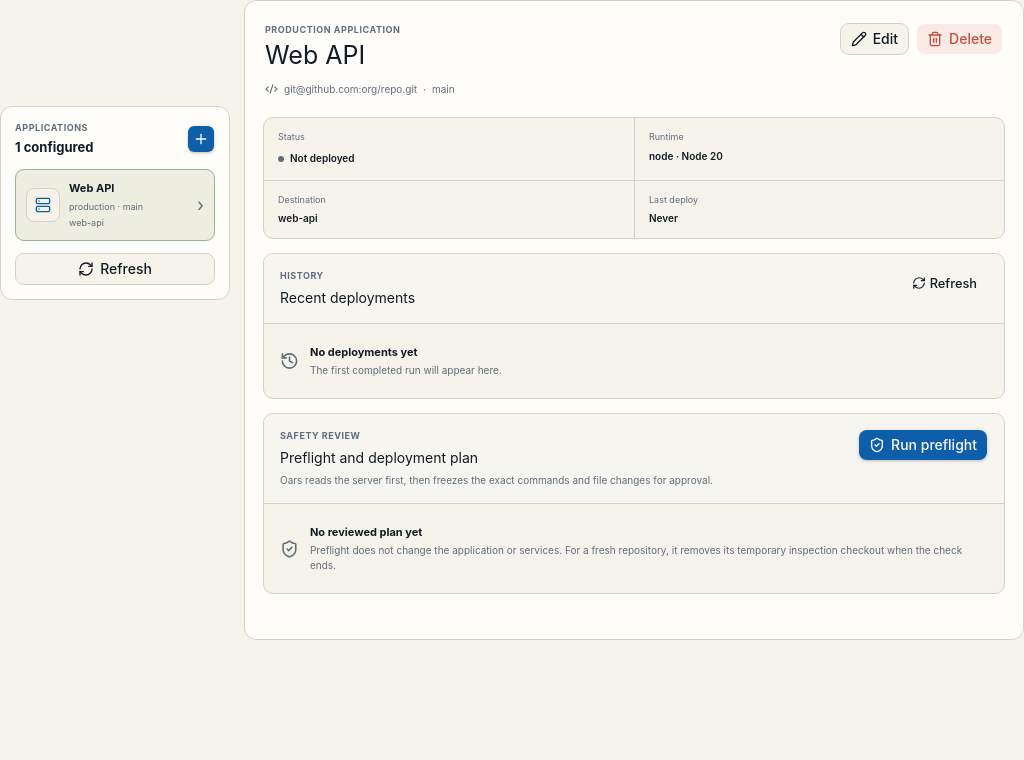
Test case: DeployTab Integration Suite › Scenario 1: Preflight gathering-to-ready polling and server facts inspection
Expected: the text "Web API" is shown, left=69, top=181, right=114, bottom=195
Click the button "Run preflight": coordinates (923, 445) left=858, top=429, right=988, bottom=461
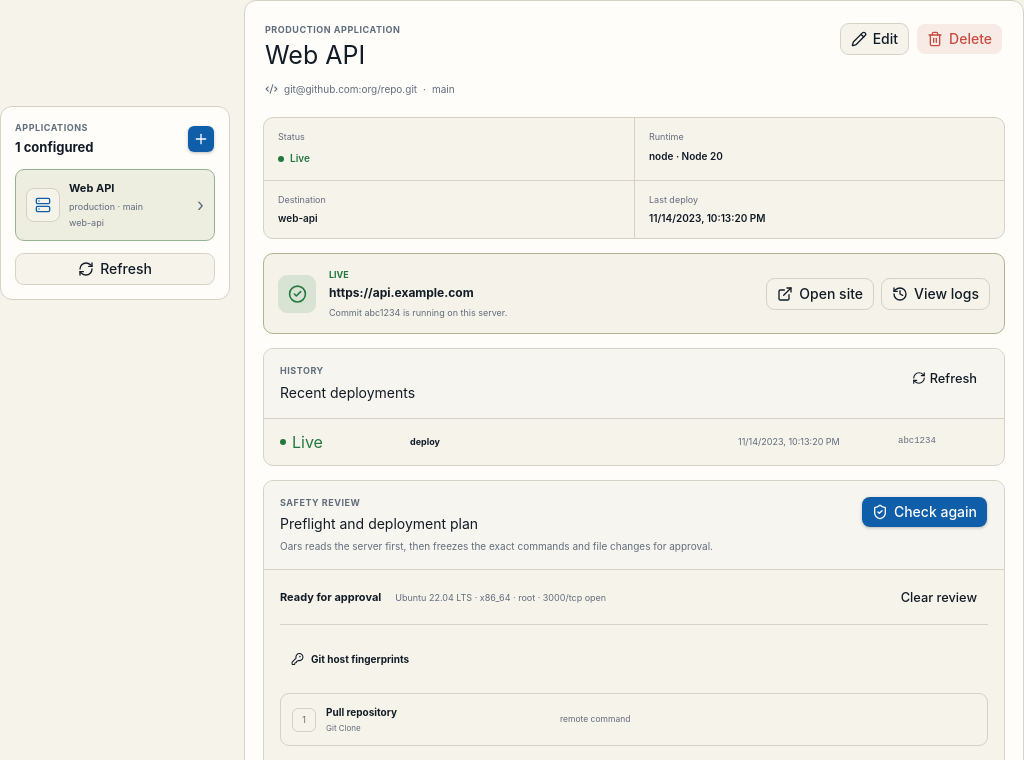
Expected: the text "Ready for approval" is shown, left=280, top=589, right=381, bottom=606
Expected: the text "Ubuntu 22.04 LTS · x86_64 · root · 3000/tcp open" is shown, left=395, top=592, right=606, bottom=602
Expected: the text "Pull repository" is shown, left=326, top=706, right=397, bottom=718
